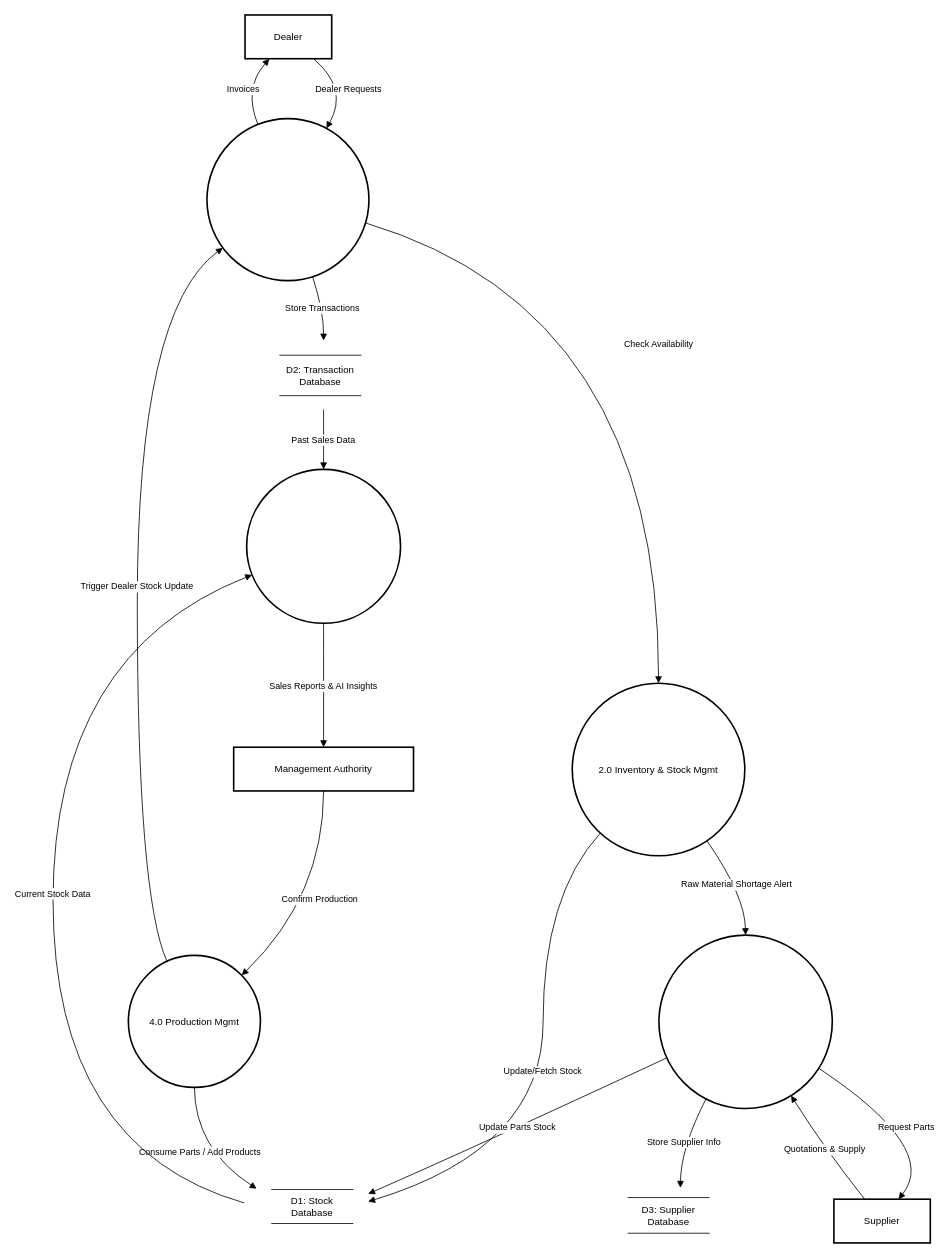
The diagram is 949 pixels wide and 1257 high, and some of its shapes have lost their labels. Each missing label, with the centre of its shape:
"1.0 Manage Dealer Orders" goes at point (287, 199).
"3.0 Procurement & Supplier" goes at point (745, 1021).
"5.0 Intelligent Reporting" goes at point (323, 546).
